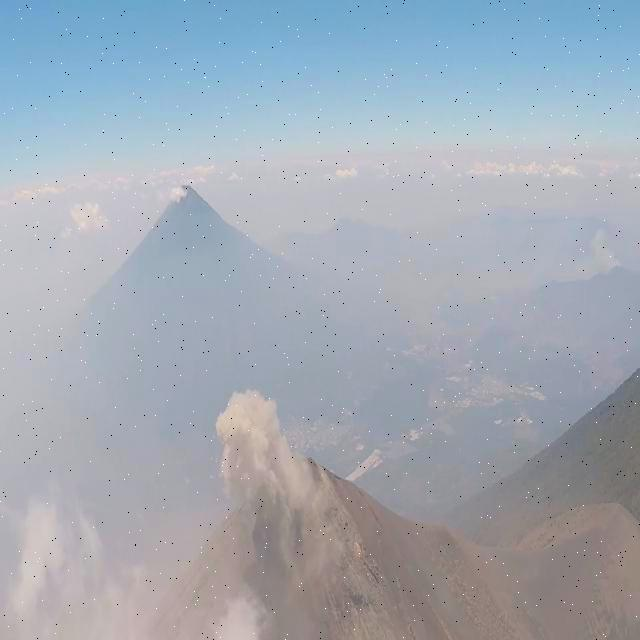Plume: (212, 383, 292, 508)
Summit: (130, 445, 484, 639)
